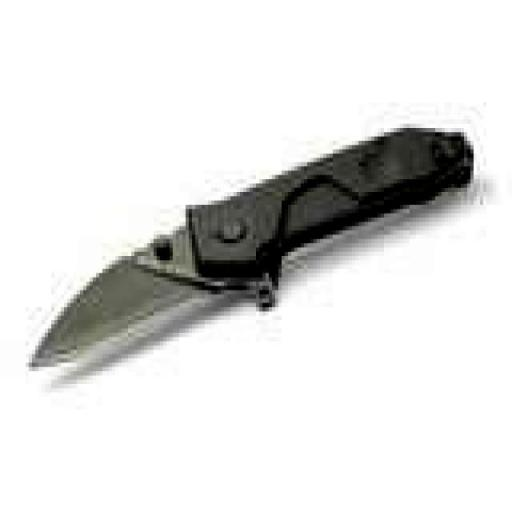knife: (35, 116, 488, 402)
